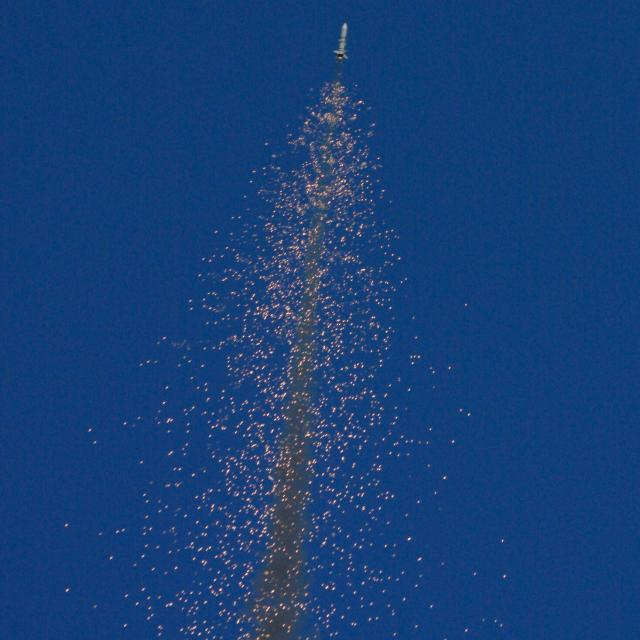Rocket: (333, 22, 349, 59)
